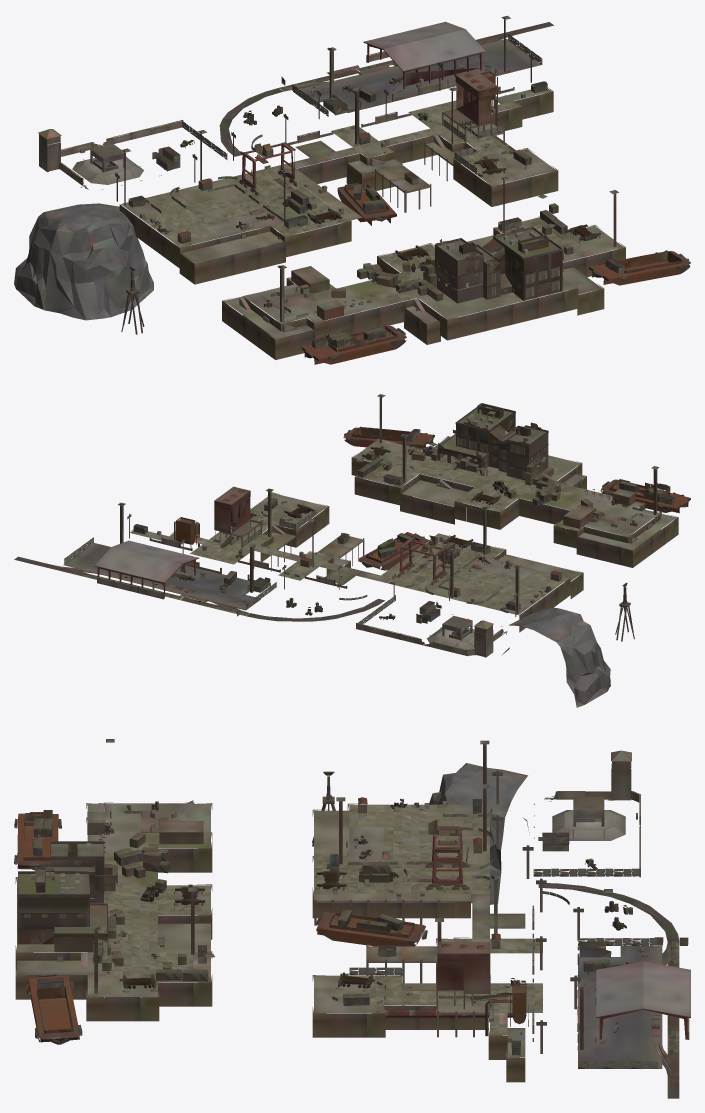
File: harbor_1-map.glb
The picture shows the model from 3 angles, top to bottom: view 1: azimuth 30°, elevation 25°; view 2: azimuth 150°, elevation 25°; view 3: azimuth 270°, elevation 25°; orthographic projection. The views are drawn at different scales.
Visible parts, largest first — view 1: harbor_1_hlod; view 2: harbor_1_hlod; view 3: harbor_1_hlod.
Boxes of the visible parts, <box> form: harbor_1_hlod: <box>14,15,690,364</box>; harbor_1_hlod: <box>14,394,690,707</box>; harbor_1_hlod: <box>14,739,690,1098</box>.
Bounding box in the file's own units: 281 × 57.48 × 231.
Materials: 1 (1 with a texture image).
